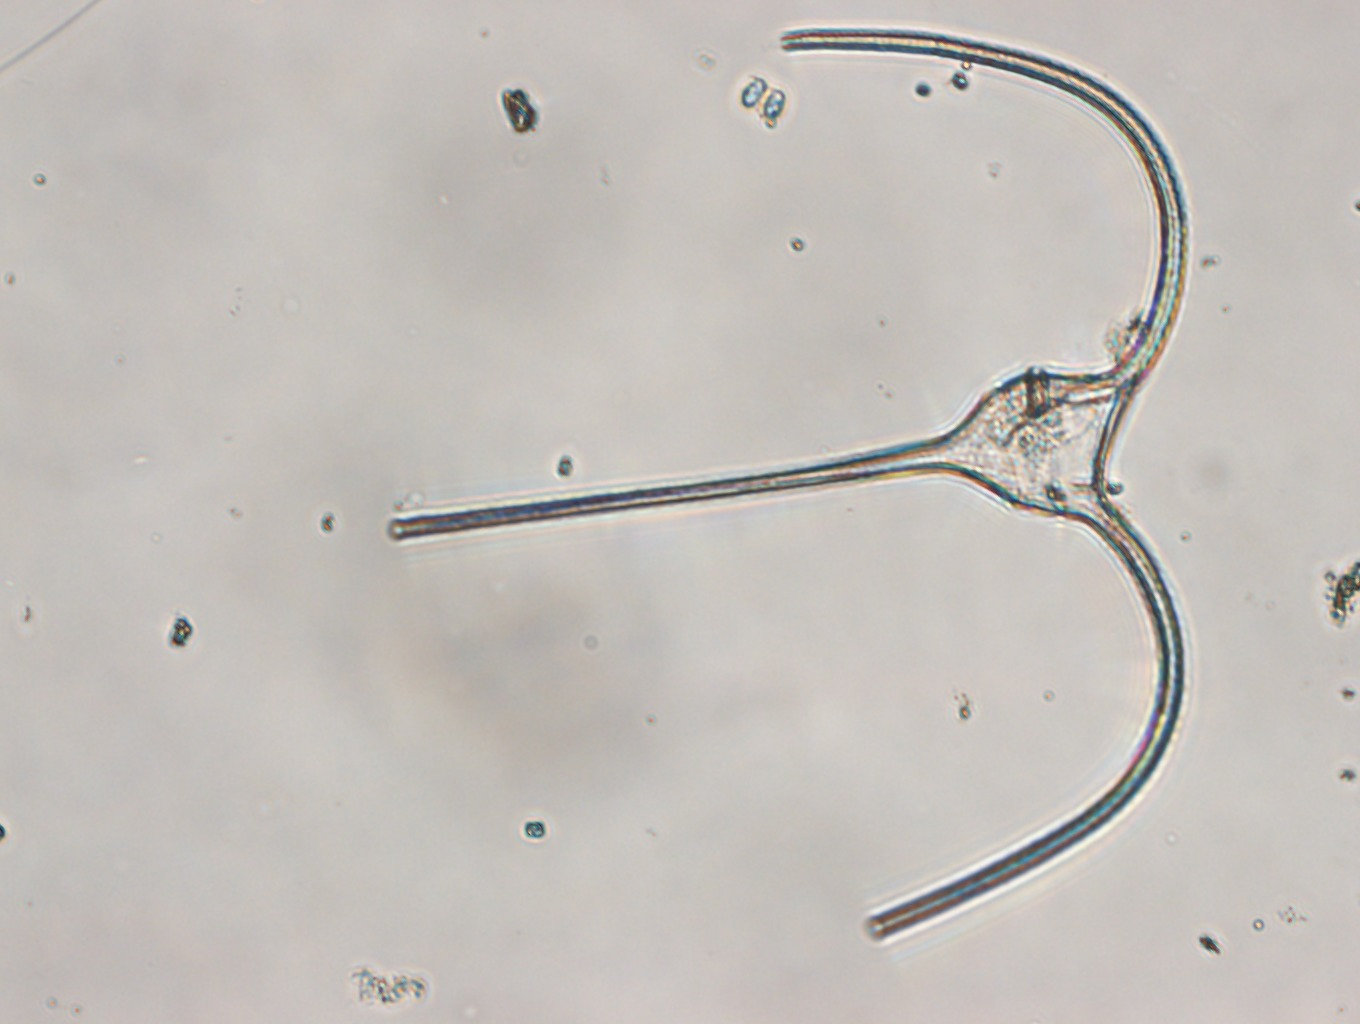ceratium trichoceros: (382, 24, 1192, 950)
